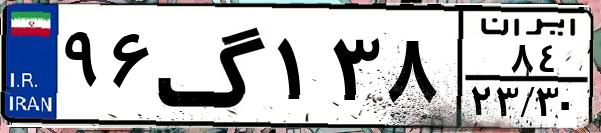0: (560, 70, 590, 125)
1: (270, 28, 330, 110)
2: (470, 70, 495, 125)
3: (330, 28, 385, 110), (495, 70, 520, 125), (535, 70, 560, 125)
4: (537, 27, 568, 80)
6: (110, 28, 156, 98)
8: (385, 28, 445, 110), (508, 27, 537, 80)
9: (57, 26, 110, 100)
گ: (156, 12, 270, 120)
